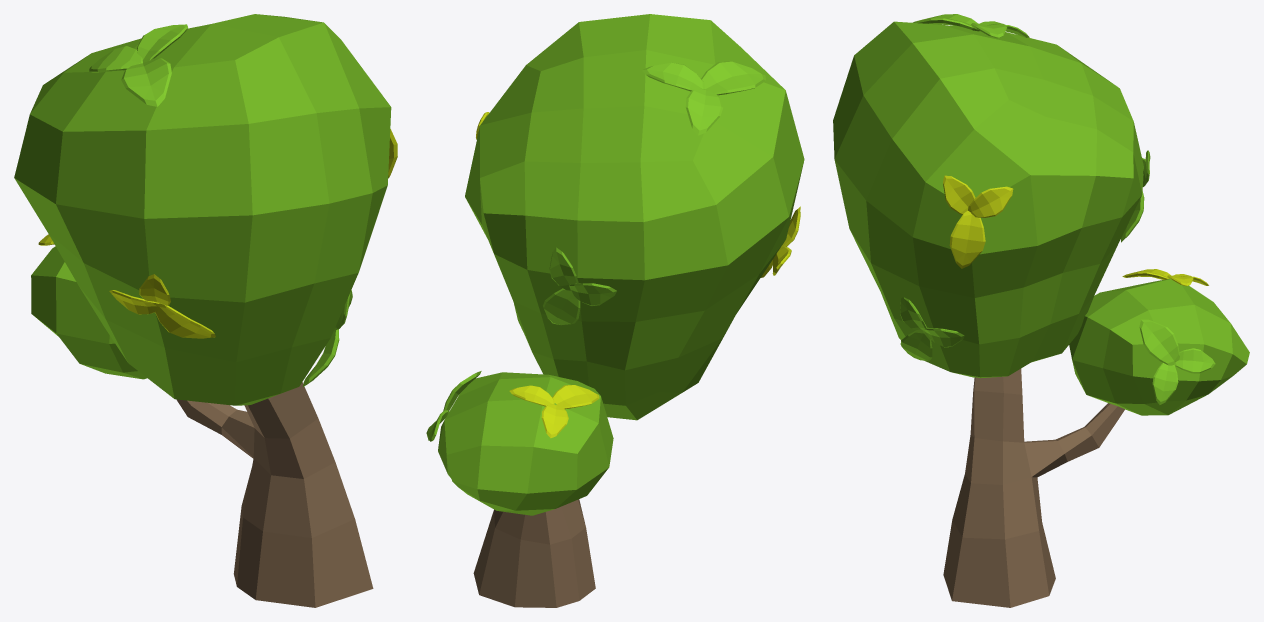
Rendered from SM_Tree_2.fbx.
3 renders of one model, left to right at view 1: azimuth 30°, elevation 25°; view 2: azimuth 150°, elevation 25°; view 3: azimuth 270°, elevation 25°, orthographic. The views are drawn at different scales.
Parts seen in each view (by area): view 1: SM_Tree_2_LOD0; view 2: SM_Tree_2_LOD0; view 3: SM_Tree_2_LOD0.
Boxes of the visible parts, x1,y1,x2,y2 form: SM_Tree_2_LOD0: [14, 14, 397, 607]; SM_Tree_2_LOD0: [426, 14, 804, 607]; SM_Tree_2_LOD0: [833, 14, 1249, 607].
Bounding box in the file's own units: 387 × 498 × 671.
Materials: 1 (1 with a texture image).
